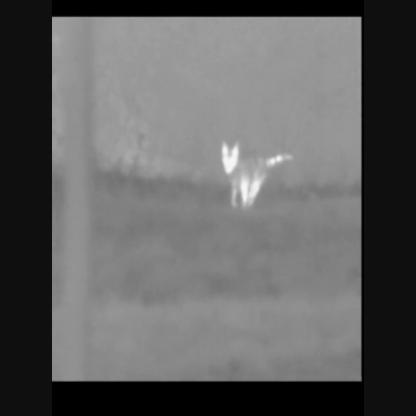rehkitze: (216, 139, 299, 208)
